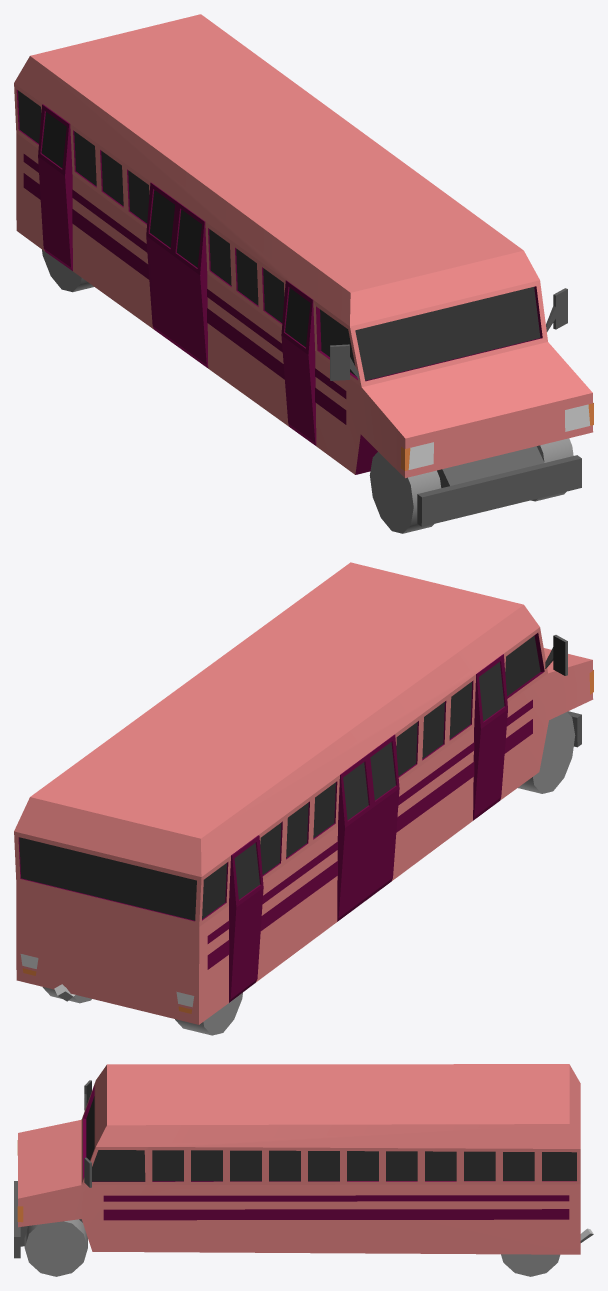
Rendered from bus_10.fbx.
3 views of the same model, one above another, from view 1: azimuth 30°, elevation 25°; view 2: azimuth 150°, elevation 25°; view 3: azimuth 270°, elevation 25° (orthographic). The views are drawn at different scales.
Visible parts, largest first — view 1: bus_10; view 2: bus_10; view 3: bus_10.
Boxes of the visible parts, left/top/right/bottom form: bus_10: left=14, top=14, right=593, bottom=533; bus_10: left=14, top=562, right=593, bottom=1035; bus_10: left=14, top=1064, right=593, bottom=1276.
Bounding box in the file's own units: 2.77 × 2.39 × 8.14.
